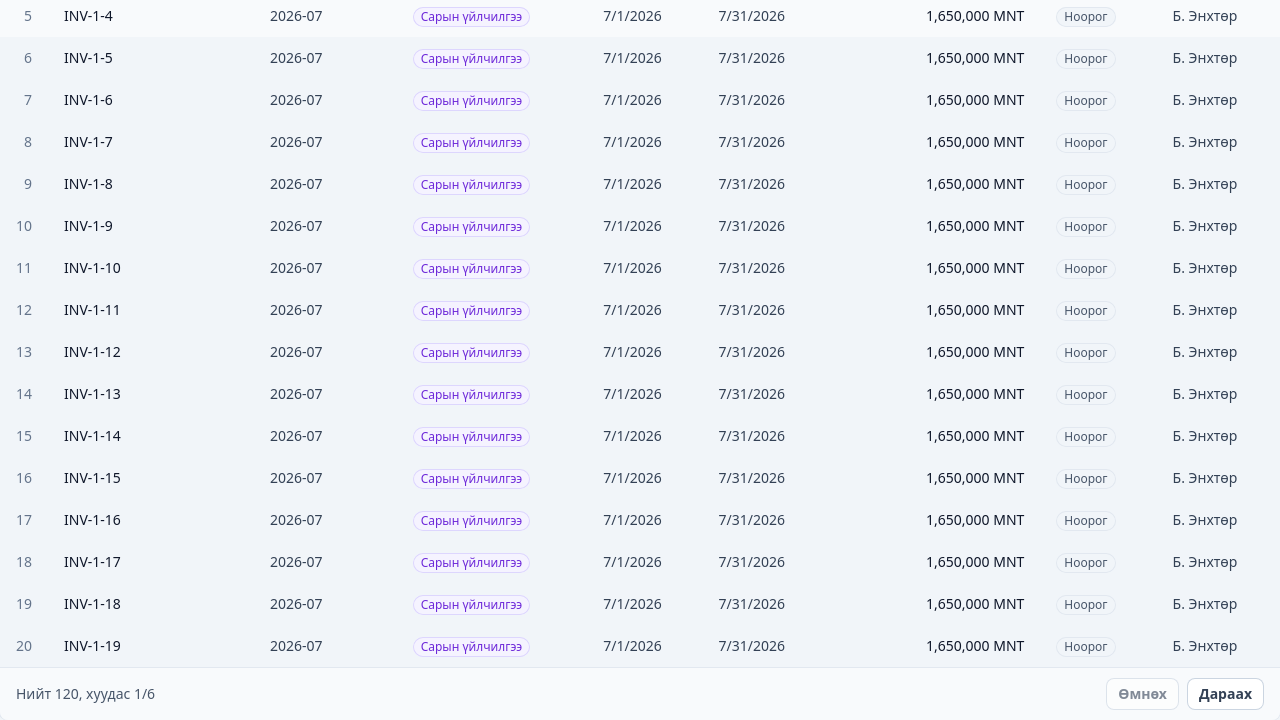
Test: CustomerInvoicesTab paging › numbers the invoices continuously across pages
(page scrolled)
Click the button "Дараах" at (1226, 694), box [1187, 678, 1264, 710]
(page scrolled)
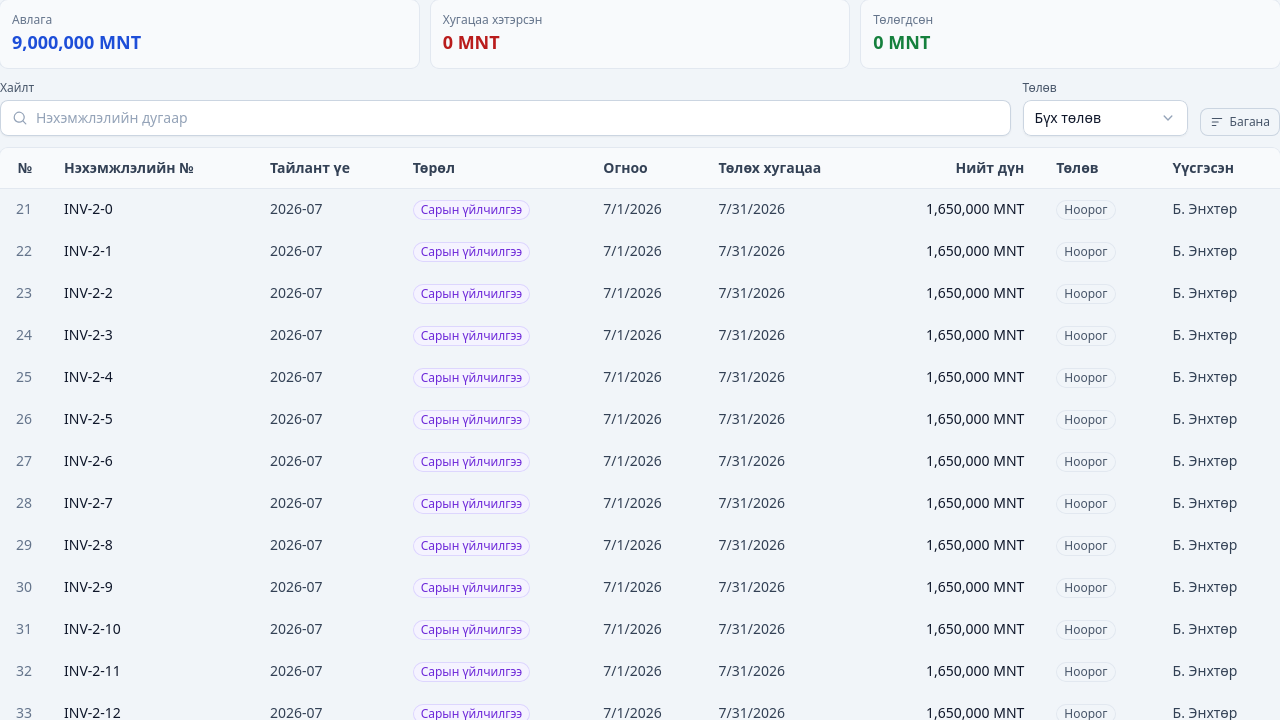
Now the cell "21" is shown, box [0, 188, 48, 230]
